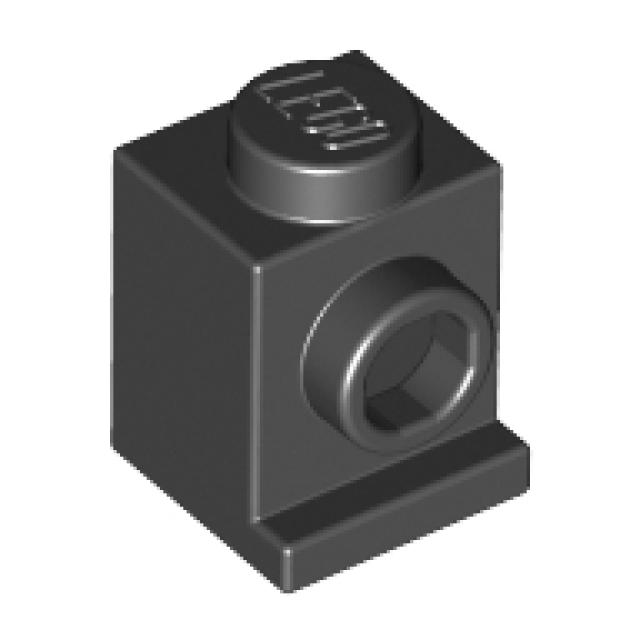Black_Small: (110, 50, 533, 597)
